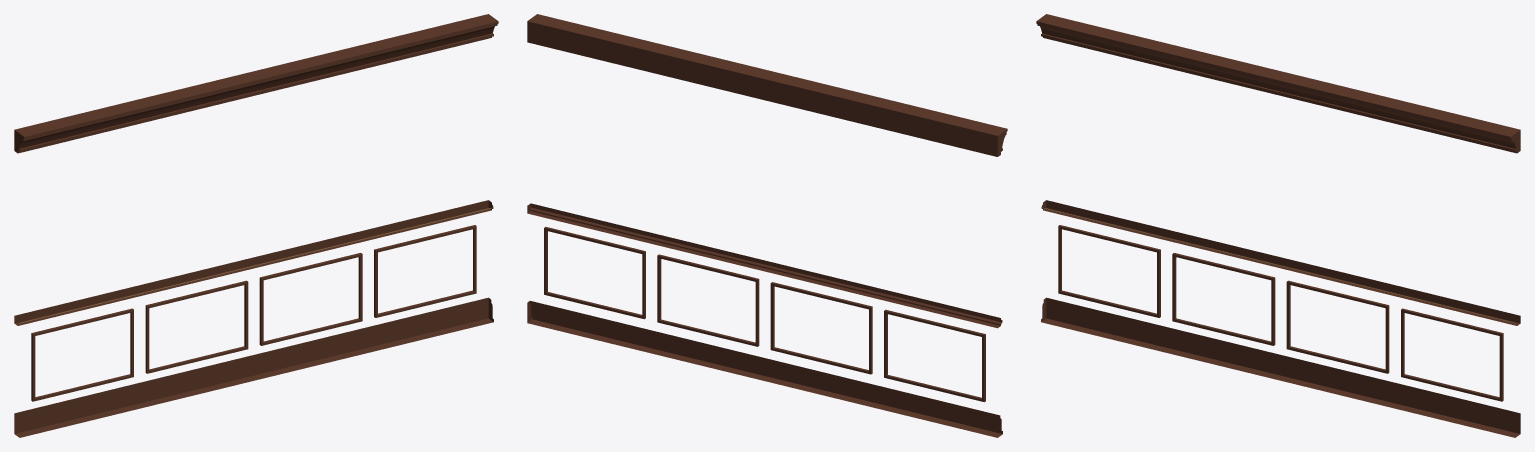
The model's file is WallMolding.fbx.
3 renders of one model, left to right at view 1: azimuth 30°, elevation 25°; view 2: azimuth 150°, elevation 25°; view 3: azimuth 330°, elevation 25°, orthographic.
Visible parts, largest first — view 1: Baseboard_Profile, Crown_Profile, ChairRail_Profile, PanelRail_02, PanelRail_01, PanelRail_00, PanelRail_03, ChairRail_BrassFillet; view 2: Crown_Profile, Baseboard_Profile, ChairRail_Profile, PanelRail_02, PanelRail_01, PanelRail_00, PanelRail_03; view 3: Baseboard_Profile, Crown_Profile, ChairRail_Profile, PanelRail_01, PanelRail_02, PanelRail_03, PanelRail_00, ChairRail_BrassFillet.
Boxes of the visible parts, x1,y1,x2,y2 form: Baseboard_Profile: [14, 297, 493, 437]; Crown_Profile: [14, 14, 498, 153]; ChairRail_Profile: [14, 200, 493, 325]; PanelRail_02: [259, 253, 362, 345]; PanelRail_01: [145, 280, 248, 373]; PanelRail_00: [31, 308, 133, 401]; PanelRail_03: [374, 225, 476, 317]; ChairRail_BrassFillet: [19, 207, 493, 323]; Crown_Profile: [527, 14, 1007, 156]; Baseboard_Profile: [527, 301, 1002, 437]; ChairRail_Profile: [527, 203, 1002, 328]; PanelRail_02: [657, 254, 759, 346]; PanelRail_01: [770, 282, 872, 374]; PanelRail_00: [884, 309, 985, 402]; PanelRail_03: [544, 226, 645, 319]; Baseboard_Profile: [1041, 297, 1520, 437]; Crown_Profile: [1036, 14, 1520, 153]; ChairRail_Profile: [1041, 200, 1520, 325]; PanelRail_01: [1172, 253, 1275, 345]; PanelRail_02: [1286, 280, 1389, 373]; PanelRail_03: [1401, 308, 1503, 401]; PanelRail_00: [1058, 225, 1160, 317]; ChairRail_BrassFillet: [1041, 207, 1515, 323].
Bounding box in the file's own units: 440 × 270 × 16.
